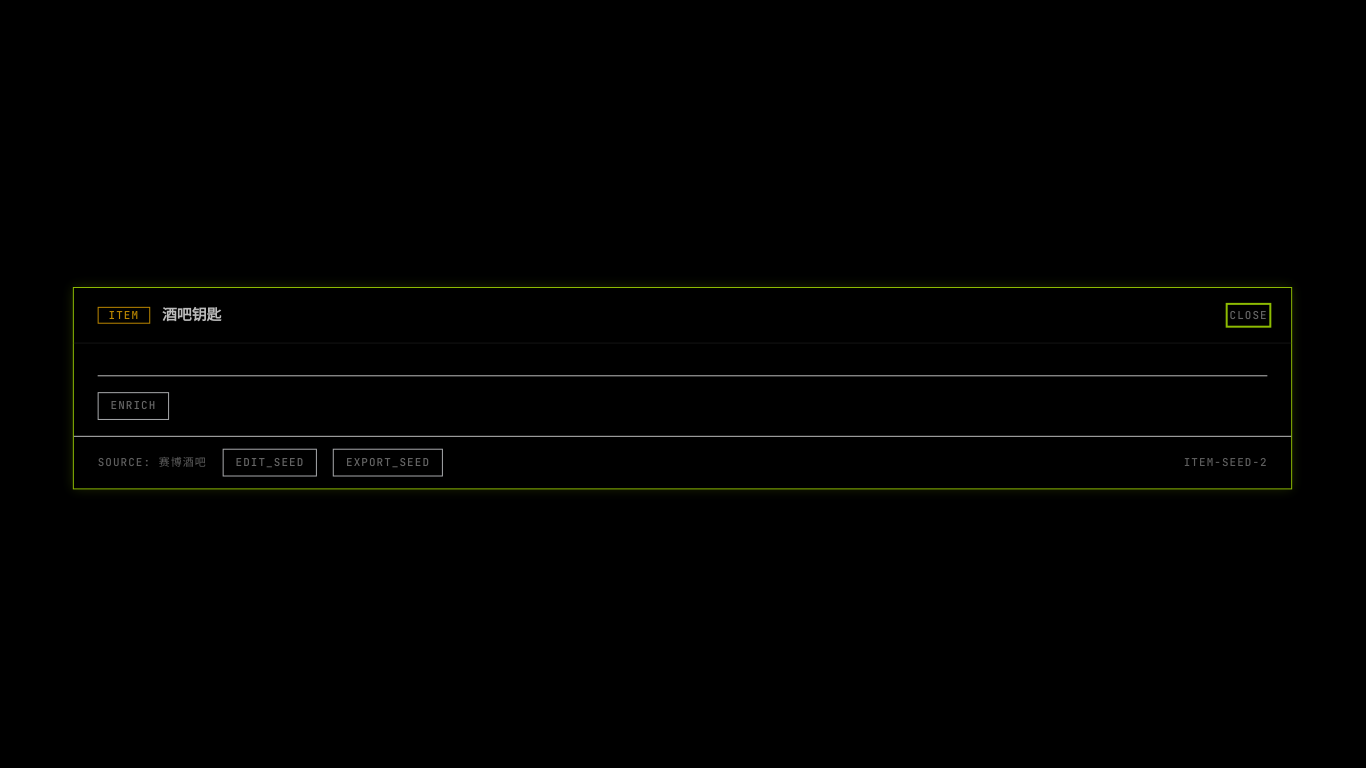
Test case: SeedDetail › shows generate details for source-world assets by resolving the latest matching session
Click the button "enrich". click: {"x": 134, "y": 406}
box: [98, 392, 170, 420]
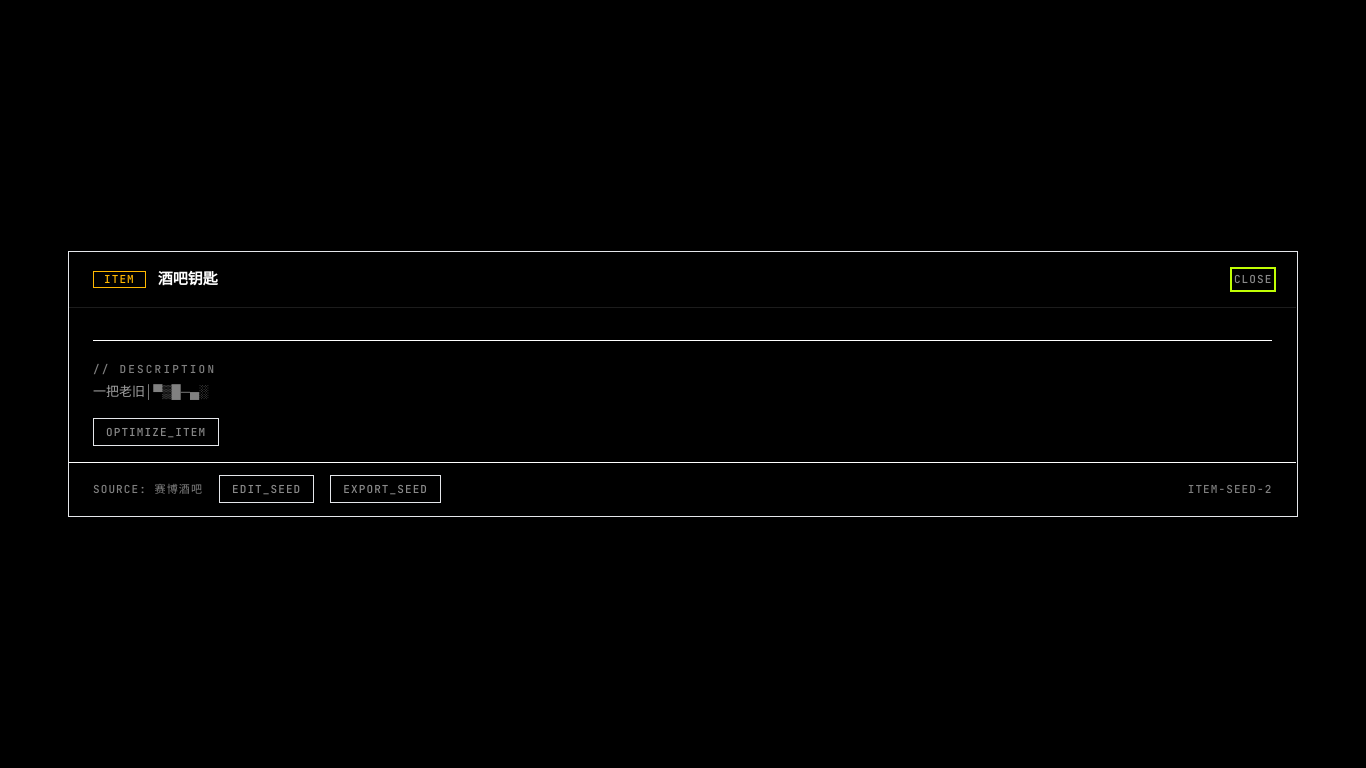
Check: the button "optimize_item" is shown, box [93, 419, 219, 447]
